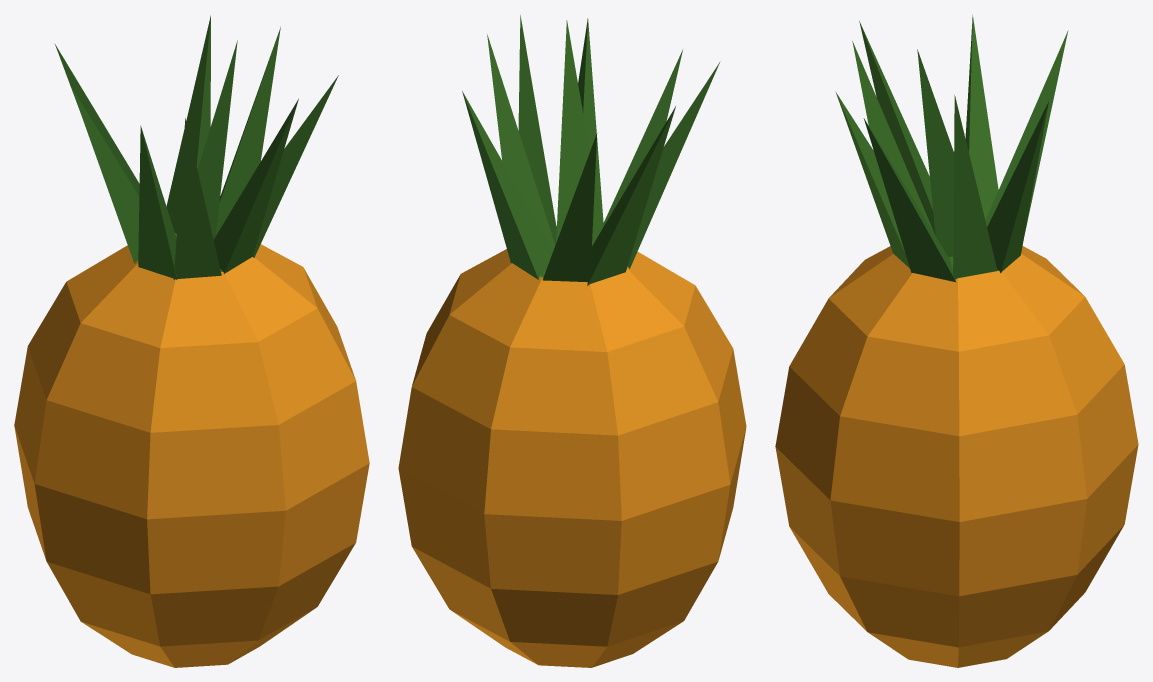
File: pineapple.fbx
3 renders of one model, left to right at view 1: azimuth 30°, elevation 25°; view 2: azimuth 150°, elevation 25°; view 3: azimuth 270°, elevation 25°, orthographic.
Visible parts, largest first — view 1: pineapple; view 2: pineapple; view 3: pineapple.
Boxes of the visible parts, x1,y1,x2,y2 form: pineapple: [14, 15, 369, 667]; pineapple: [398, 15, 746, 667]; pineapple: [775, 15, 1138, 667].
Size of the model in its own units: 789 by 1483 by 789.
